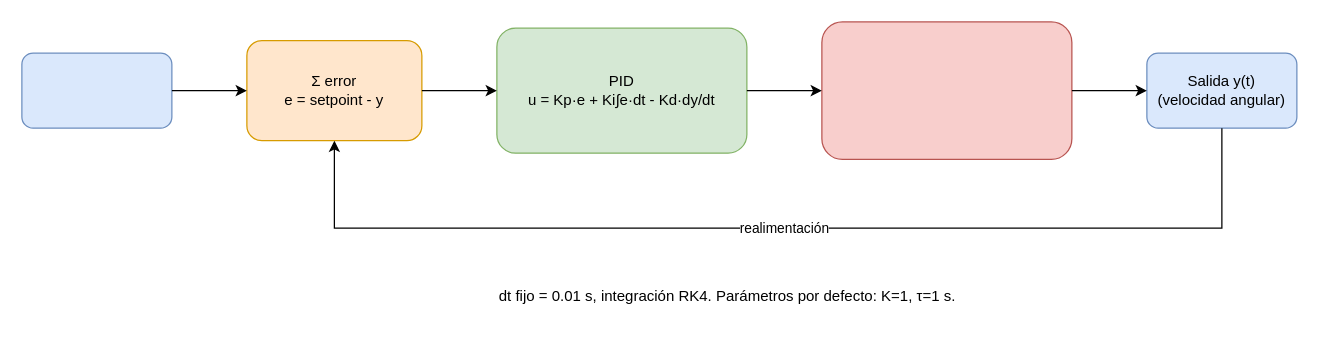
Some shapes in this 1319 by 338 pixel diagram are drawn without their labels. The shapes that lost their labels are listed below. From the top down, each one's centre as x and y in pixels, then its label:
At point (96, 90): "Setpoint".
At point (946, 90): "Planta: Motor DC G(s) = K / (τs + 1) τ·dy/dt = -y + K·u".
